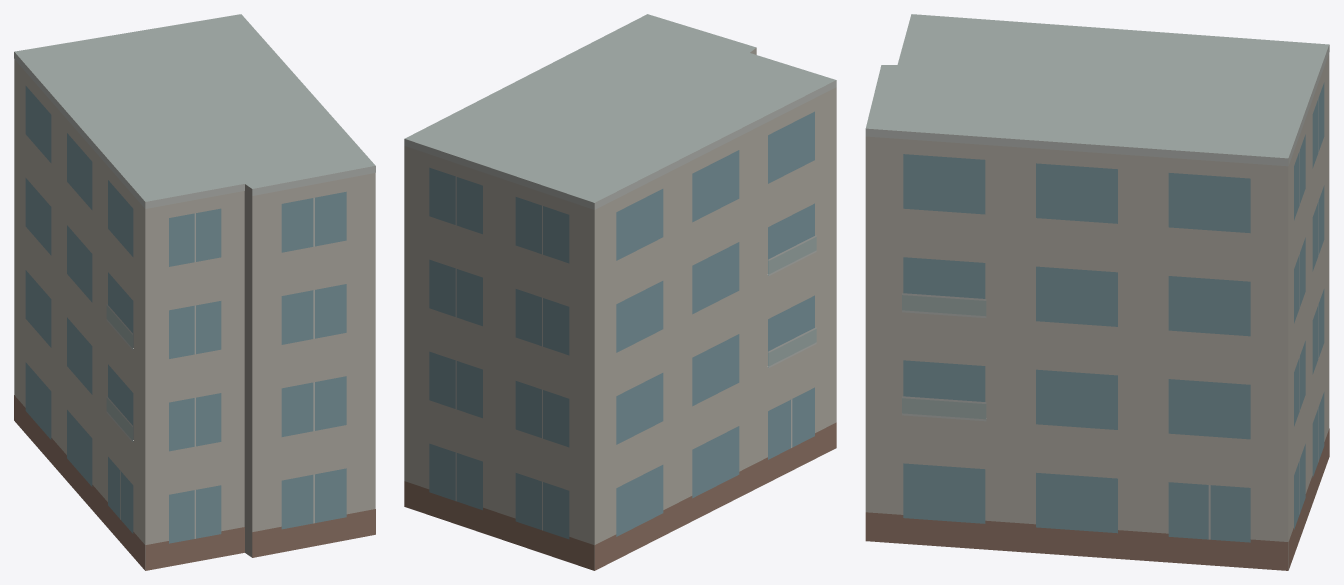
File: survey-upis-32787927.glb
3 views of the same model, side by side, from view 1: azimuth 30°, elevation 25°; view 2: azimuth 150°, elevation 25°; view 3: azimuth 270°, elevation 25° (orthographic). The views are drawn at different scales.
Visible parts, largest first — view 1: survey-upis-32787927.tmp; view 2: survey-upis-32787927.tmp; view 3: survey-upis-32787927.tmp.
Part boxes in pixels (x1,y1,x2,y2): survey-upis-32787927.tmp: [14, 14, 375, 570]; survey-upis-32787927.tmp: [404, 14, 836, 570]; survey-upis-32787927.tmp: [865, 14, 1329, 570].
Size of the model in its own units: 9.54 by 12.7 by 12.95.
